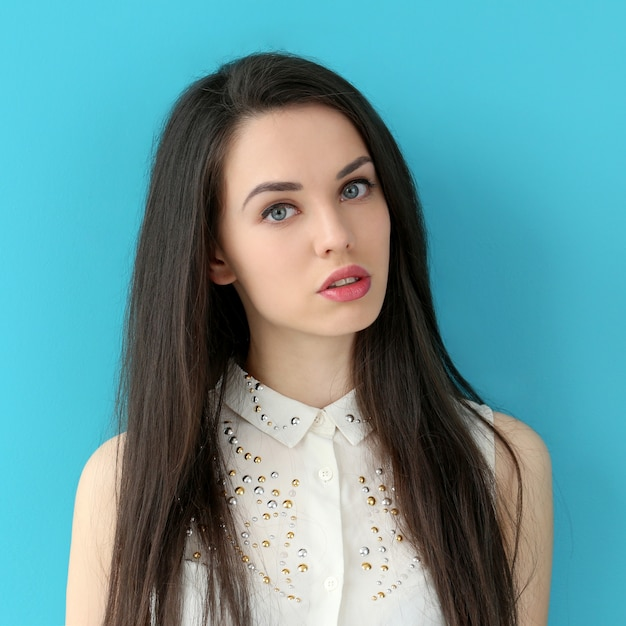teen: (130, 32, 441, 445)
